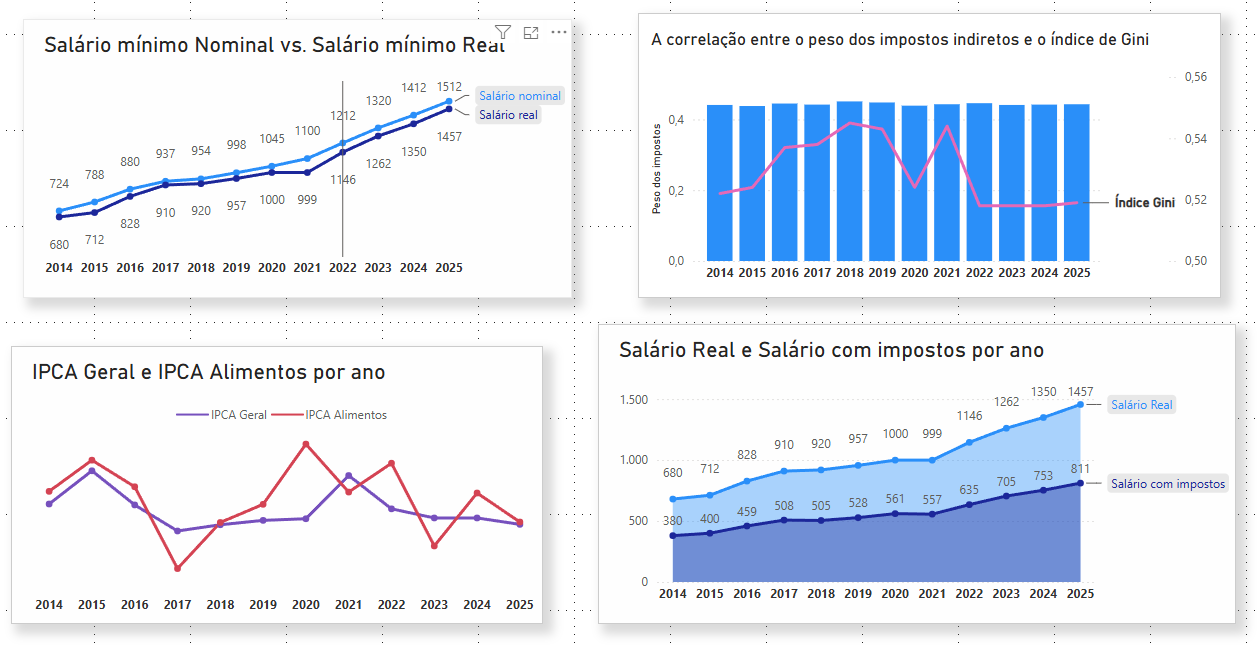

The dashboard page shown, as its layout file describes it:
{"tool":"powerbi","page":{"name":"Principal","canvas":[1280,720],"ordinal":0},"visuals":[{"type":"lineChart","title":"Salário mínimo Nominal vs. Salário mínimo Real","fields":{"Category":["fato_poder_compra.ano"],"Y":["Sum(fato_poder_compra.salario_minimo_nominal)","Sum(fato_poder_compra.salario_minimo_descontado_inflacao)"]},"box":[25,81.2,548.8,278.8],"z":0},{"type":"lineChart","fields":{"Category":["dim_tributaria.ano"],"Y":["Sum(dim_inflacao.ipca_geral_real)","Sum(dim_inflacao.ipca_alimentos_real)"]},"box":[12.5,407.5,532.5,278.8],"z":1000},{"type":"lineClusteredColumnComboChart","title":" A correlação entre o peso dos impostos indiretos e o índice de Gini","fields":{"Category":["fato_poder_compra.ano"],"Y2":["Sum(fato_poder_compra.indice_gini_real)"],"Y":["Sum(dim_tributaria.imposto_regressivo_real)"]},"box":[640,75,582.5,285],"z":1001},{"type":"lineChart","fields":{"Category":["fato_poder_compra.ano"],"Y":["Sum(fato_poder_compra.salario_minimo_descontado_inflacao)"],"Y2":["fato_poder_compra.Salario_Liquido_Subsistencia"]},"box":[600,386.2,637.5,300],"z":1002}]}

Visuals, with their boxes on the page's 1280x720 design canvas (x1, y1, x2, y2). These are canvas units, not pixel positions in the 1258x649 screenshot, which may show the page scaled, cropped or inside an application window:
"Salário mínimo Nominal vs. Salário mínimo Real" lineChart: 25:81:574:360
lineChart - dim_tributaria.ano x Sum(dim_inflacao.ipca_geral_real): 12:408:545:686
" A correlação entre o peso dos impostos indiretos e o índice de Gini" lineClusteredColumnComboChart: 640:75:1222:360
lineChart - fato_poder_compra.ano x Sum(fato_poder_compra.salario_minimo_descontado_inflacao): 600:386:1238:686
